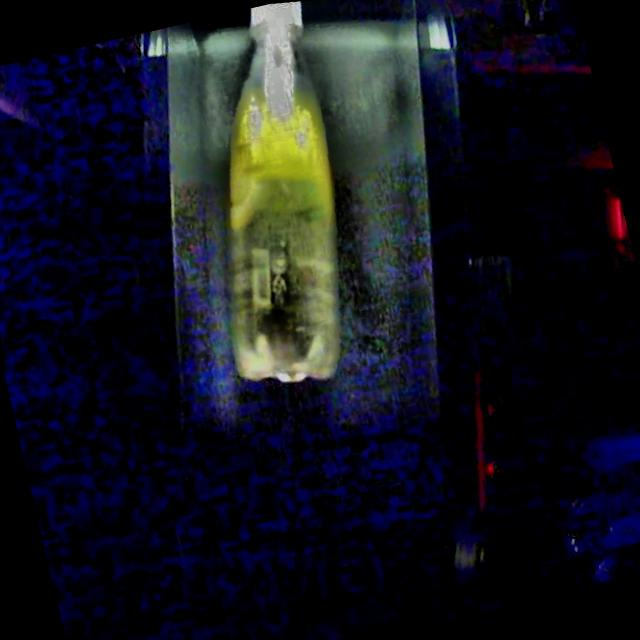plastic bottle: (227, 2, 339, 383)
